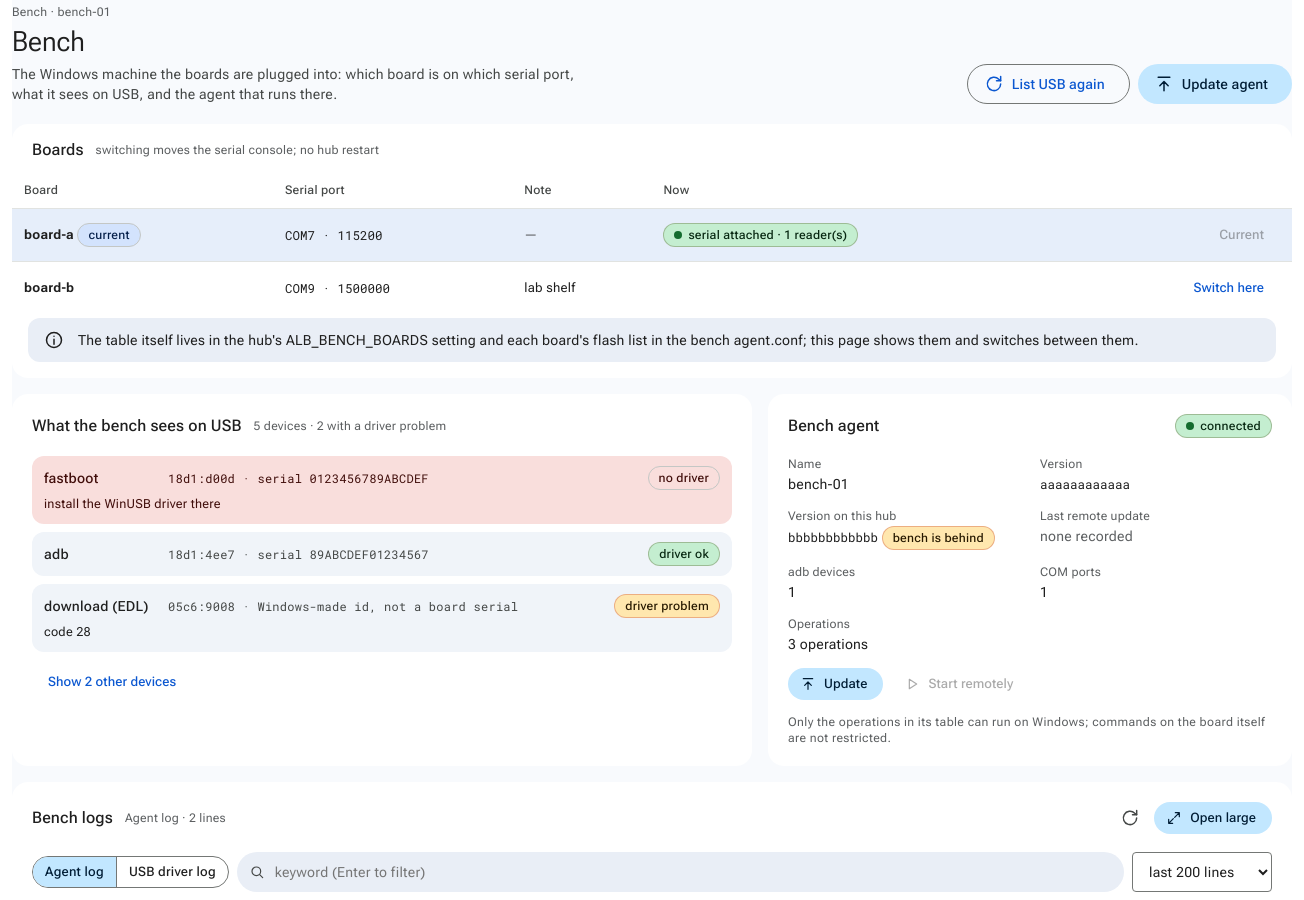
Test: Bench page › serial busy: nothing is forced until the user confirms
What coordinates should you click on to do the following:
click the button "Switch here"
I would click on:
 (1229, 288)
Its box is [1177,272,1280,304].
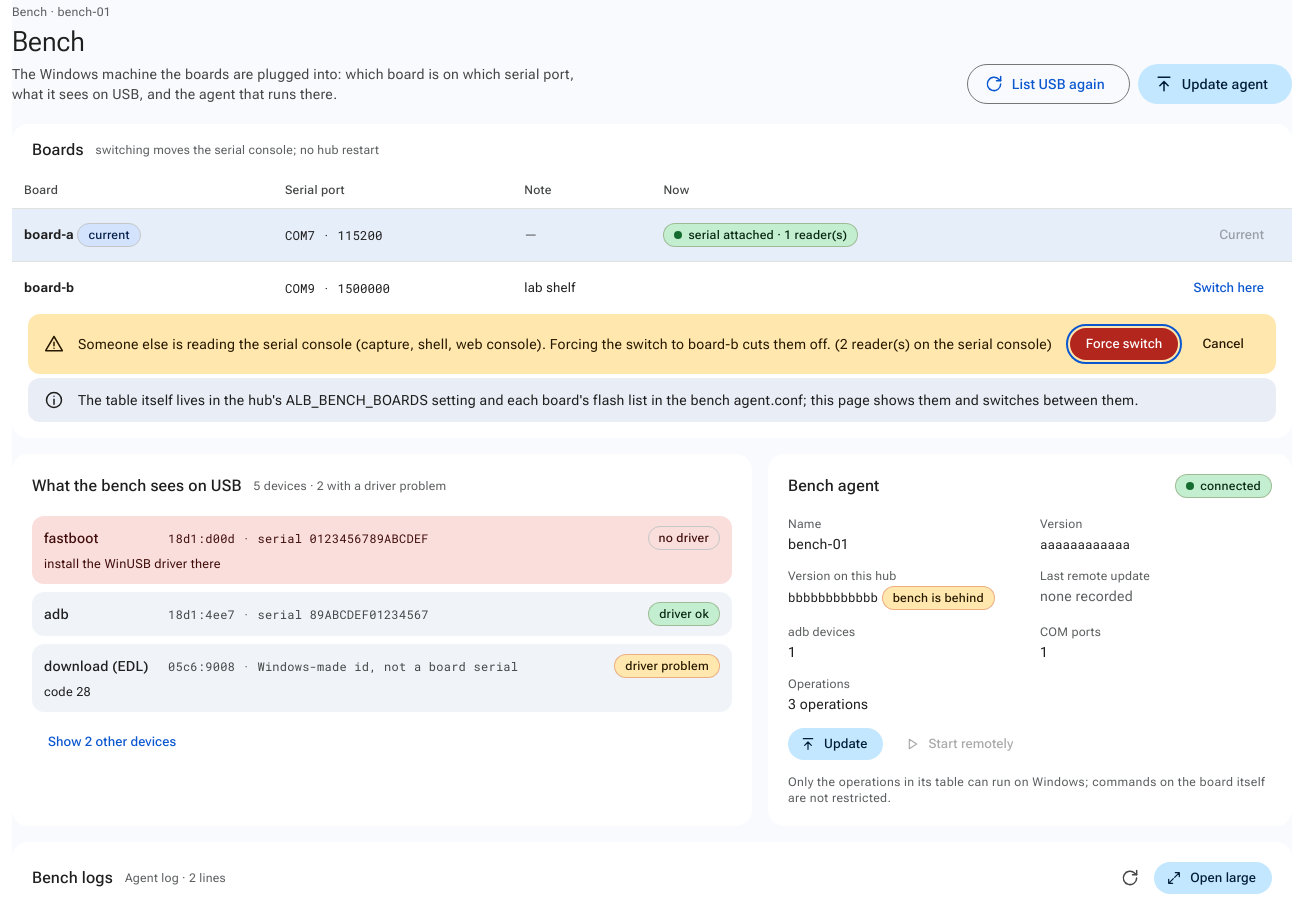
Result: the text "cuts them off" shows "board-b" at [78,336,1052,352]
What coordinates should you click on to do the following:
click the button "Force switch"
I would click on:
 (1124, 344)
Its box is [1070,328,1178,360].
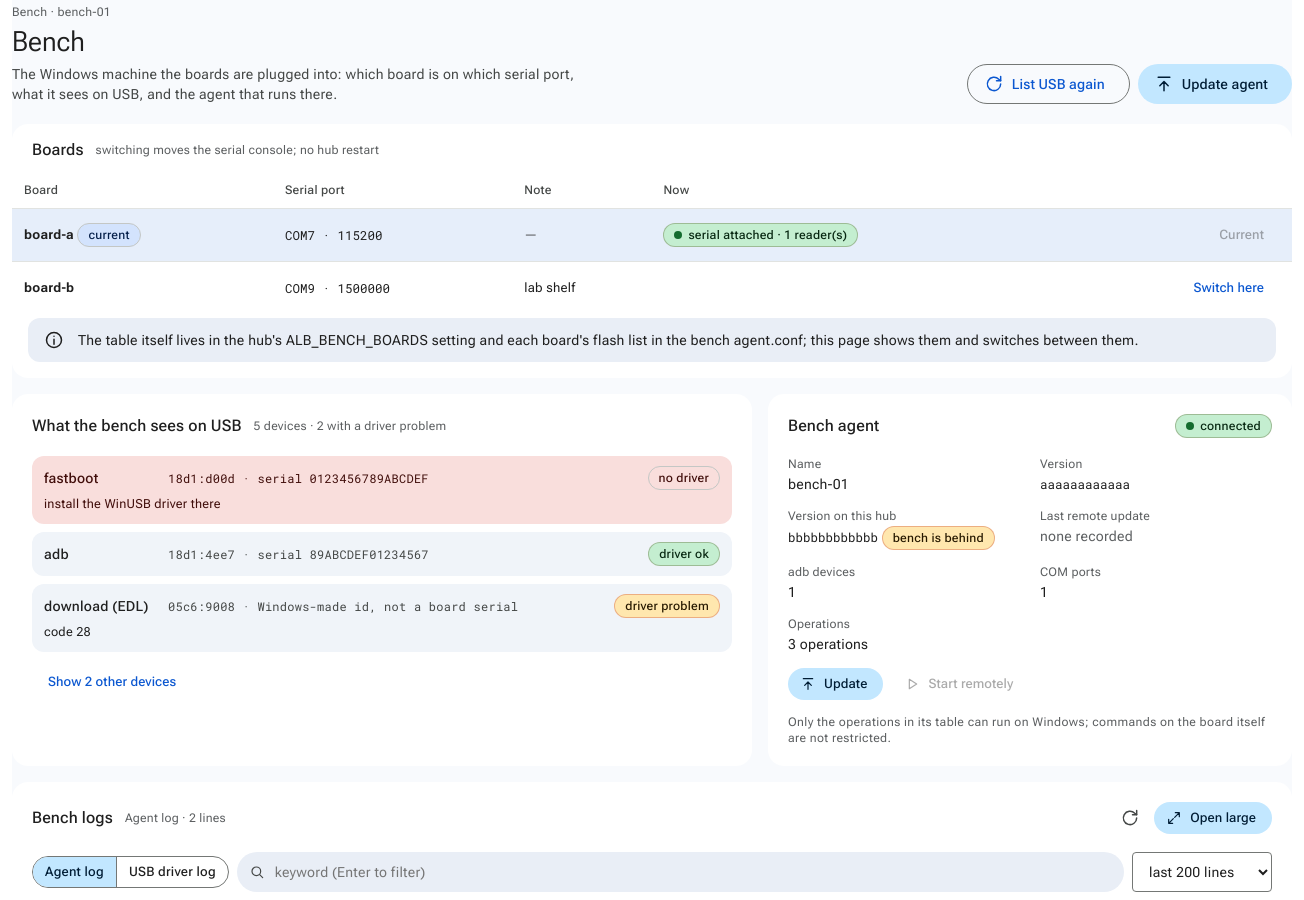
Result: the text "cuts them off" is gone
